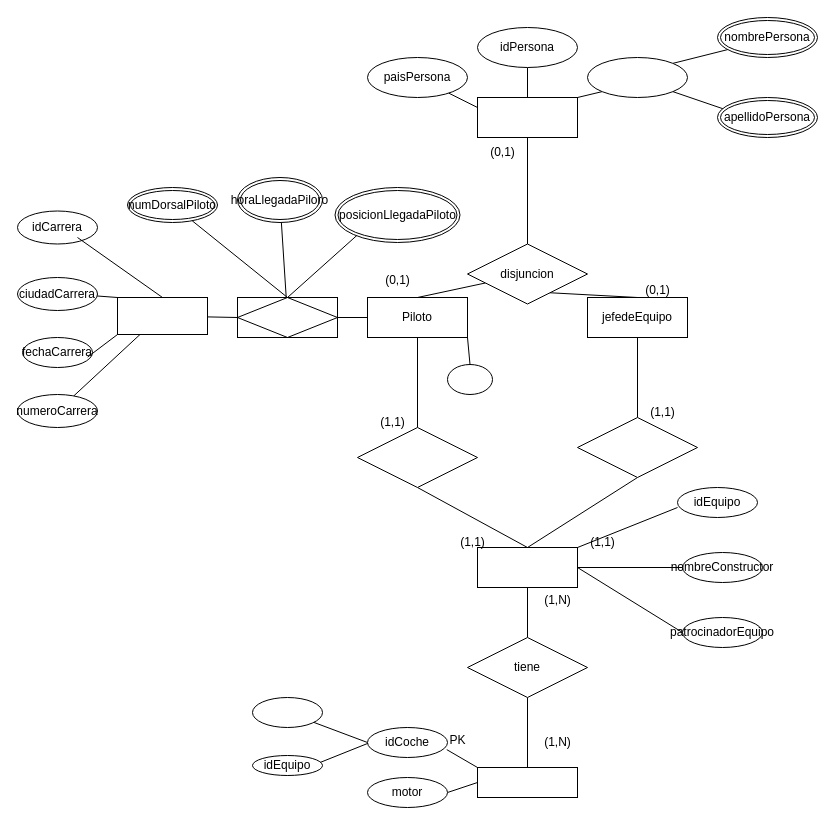
Image size: 835x825. Some labels were removed from this diagram. The shapes that lost their labels are listed below. From the top down, each one's centre as x and y in pixels, then its label:
[637,77]: nombreCompletoPersona
[527,117]: Persona
[162,315]: campeonatoMundial
[287,317]: participa
[469,379]: apodo
[417,457]: Conduce para
[637,447]: trabaja para
[527,567]: Equipo
[287,712]: numSerieCoche
[527,782]: coches
